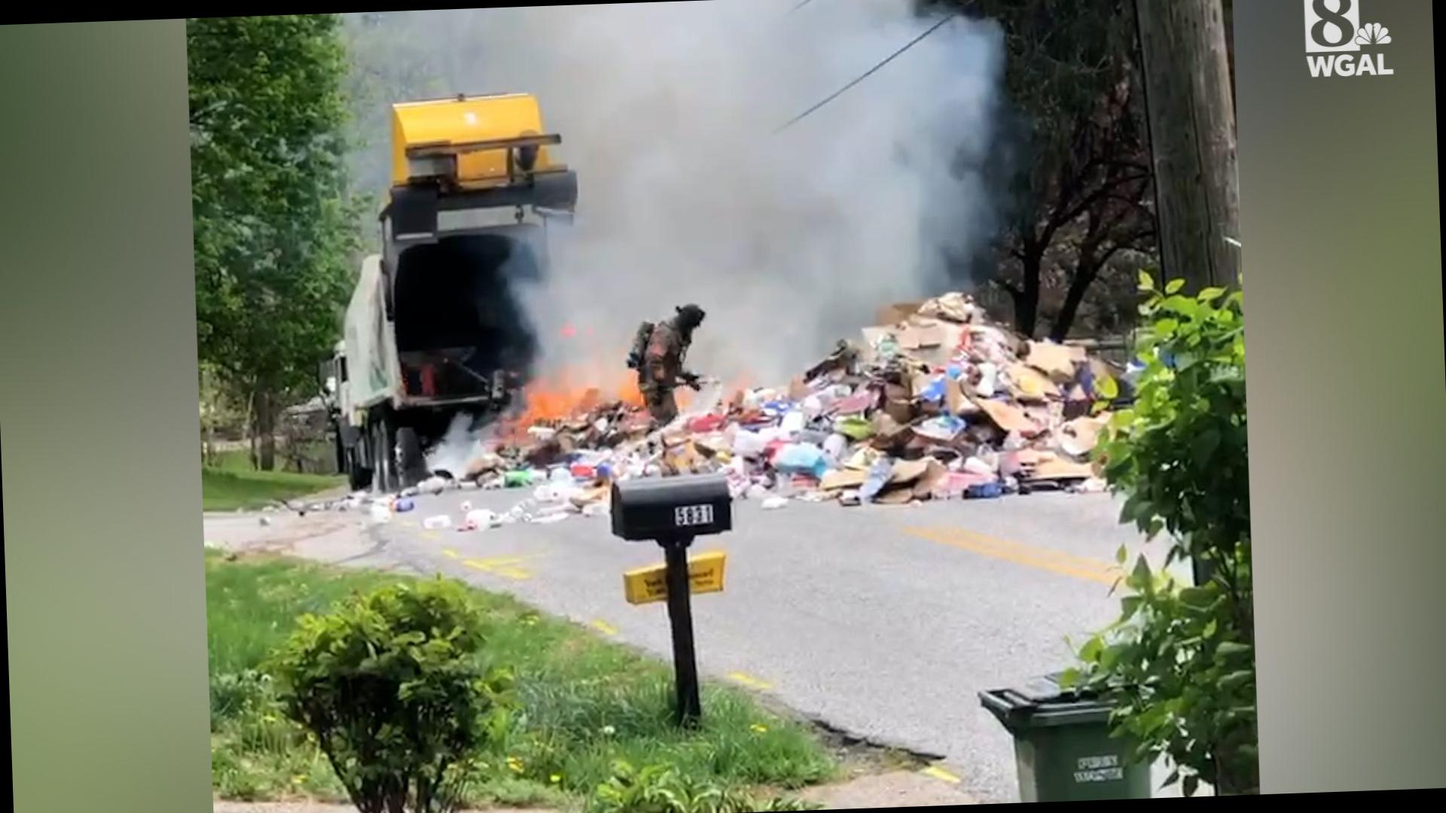trash: (795, 370, 1052, 495), (821, 301, 1038, 372)
